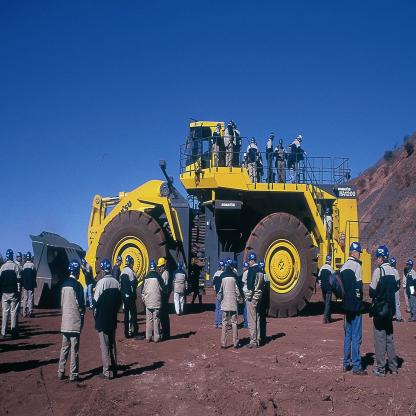bull_dozer/loader/grader: (22, 104, 383, 333)
person: (336, 242, 370, 383), (372, 242, 400, 380)
